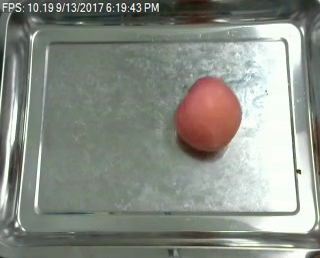Apple: (173, 74, 243, 156)
